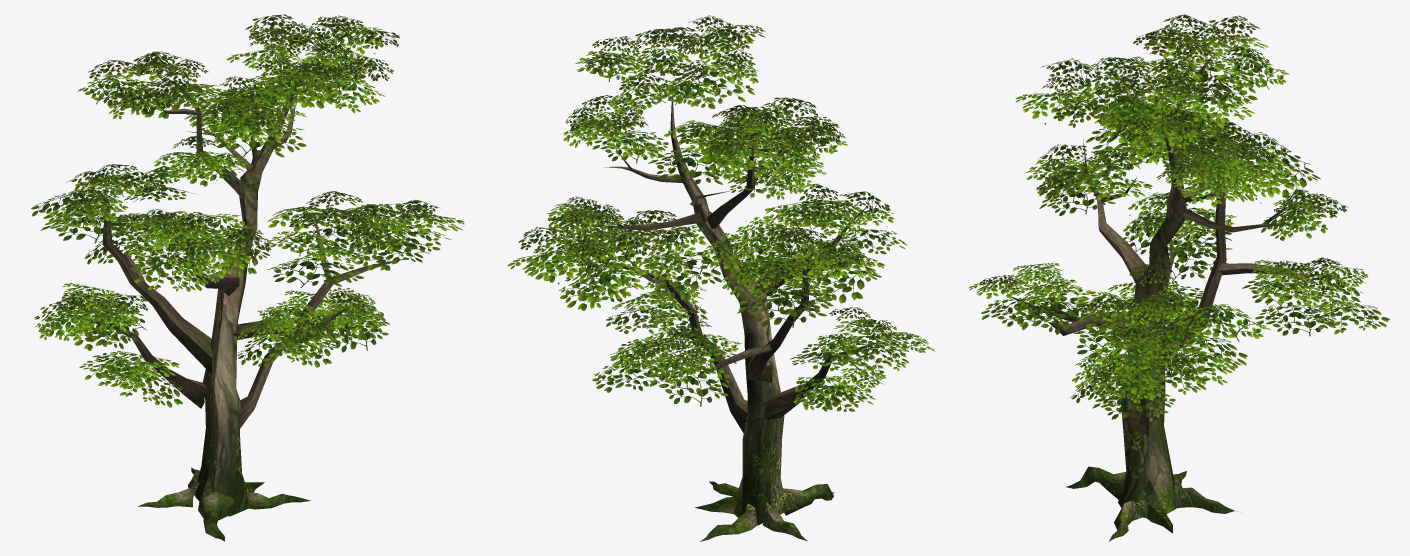
File: 3004_Item_shu_6.FBX
The picture shows the model from 3 angles, left to right: view 1: azimuth 30°, elevation 25°; view 2: azimuth 150°, elevation 25°; view 3: azimuth 270°, elevation 25°; orthographic projection. The views are drawn at different scales.
Visible parts, largest first — view 1: 3004_Item_shu_6; view 2: 3004_Item_shu_6; view 3: 3004_Item_shu_6.
Boxes of the visible parts, left/top/right/bottom form: 3004_Item_shu_6: left=31, top=14, right=464, bottom=541; 3004_Item_shu_6: left=507, top=15, right=934, bottom=541; 3004_Item_shu_6: left=968, top=14, right=1389, bottom=541.
Bounding box in the file's own units: 521 × 542 × 435.
